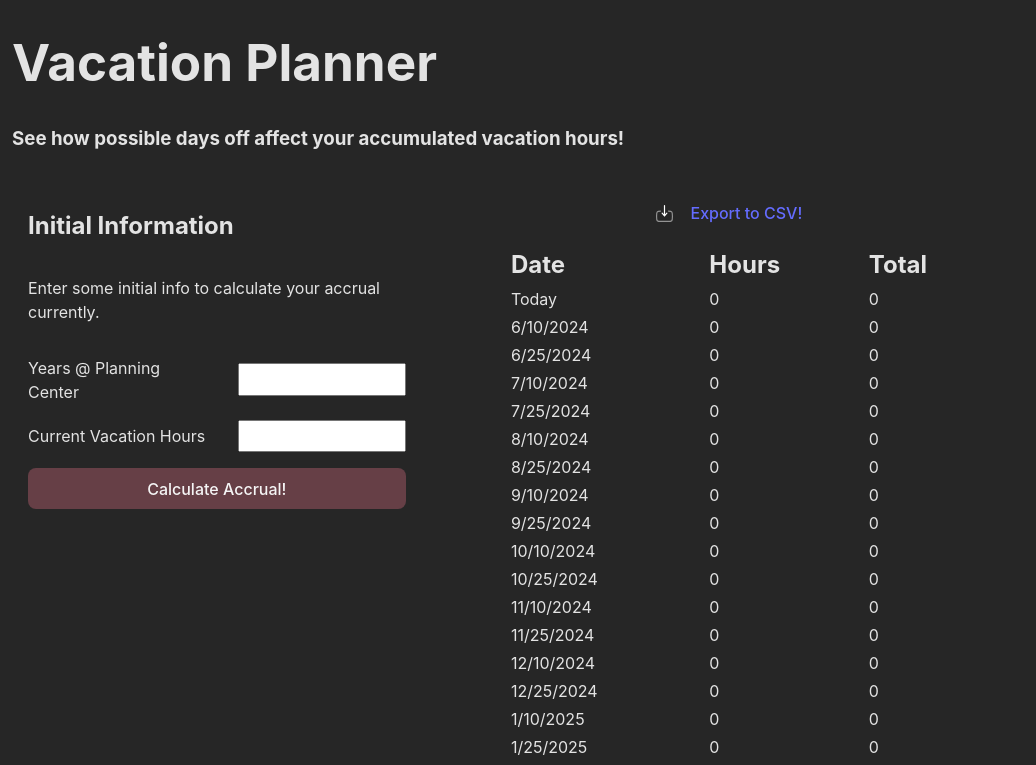
Test: renders correct accumulation and max numbers › gets it correct for 0 years at Planning Center
The width and height of the screenshot is (1036, 765).
Type "0" into the number field next to "Years @ Planning Center" at (322, 380), box [238, 363, 406, 396]
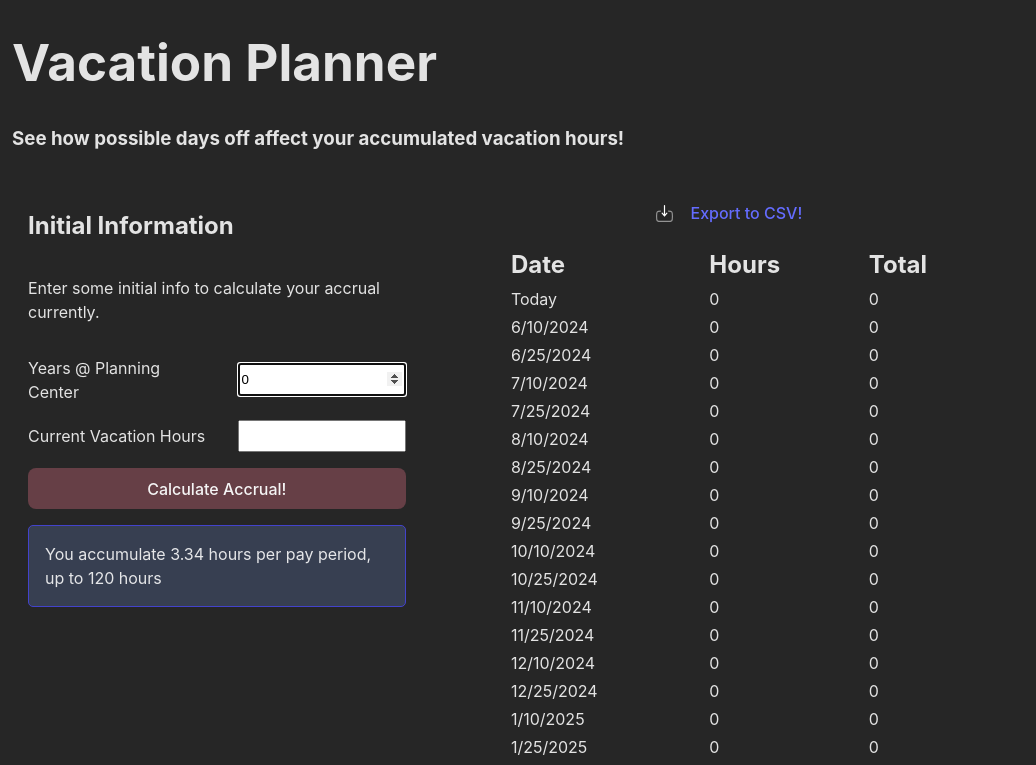
Expected: the text "You accumulate 3.34 hours per pay period, up to 120 hours" is shown, [28, 526, 406, 608]
